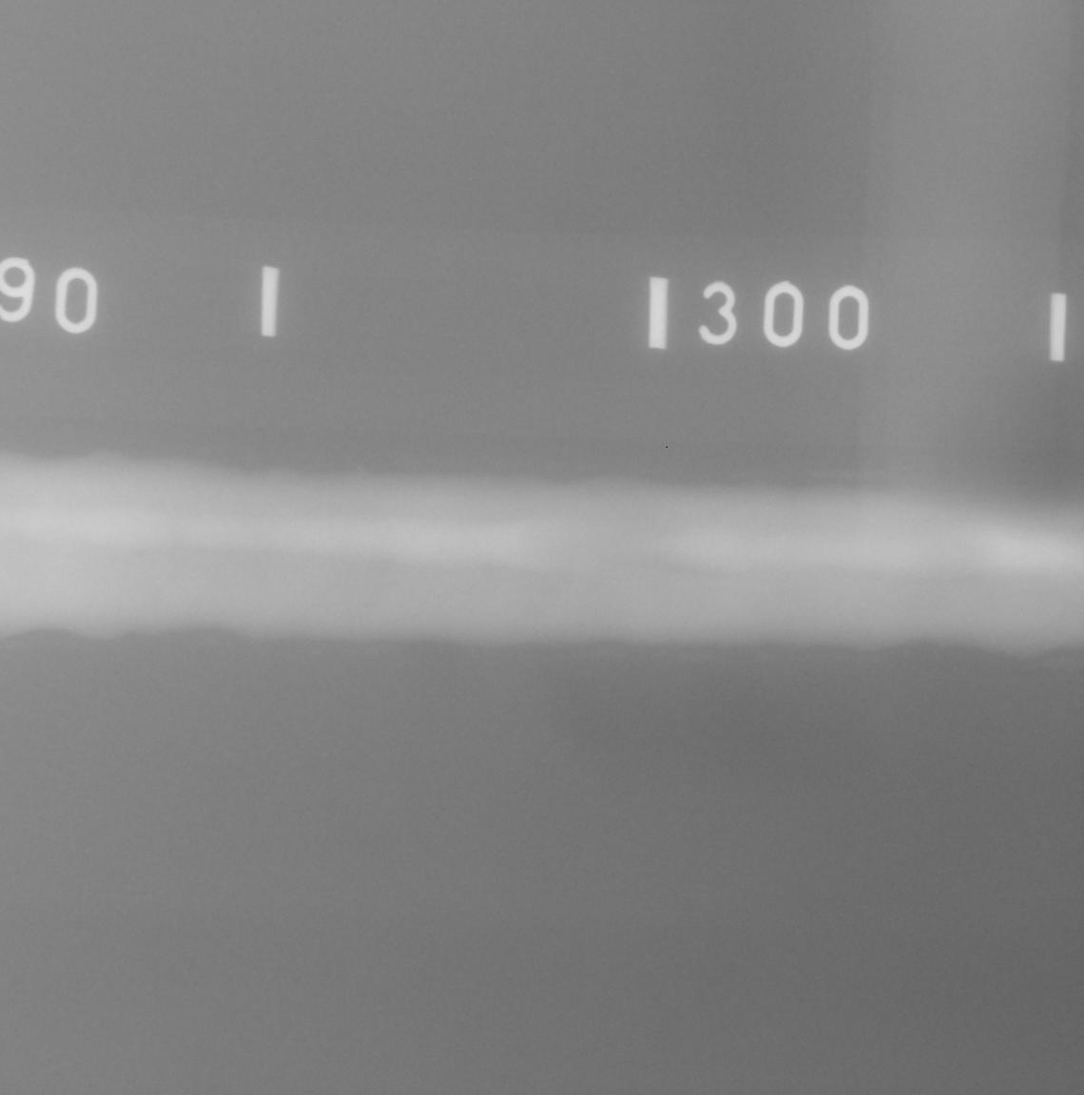Pore/Porosity: (137, 549, 146, 555)
